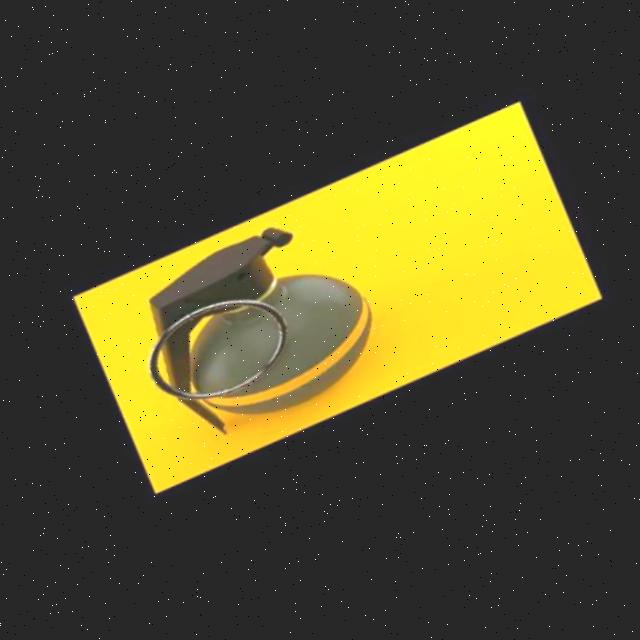grenade: (93, 190, 407, 468)
